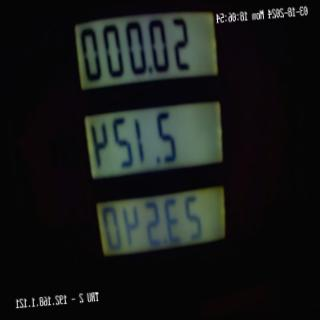screen: (64, 0, 241, 296)
